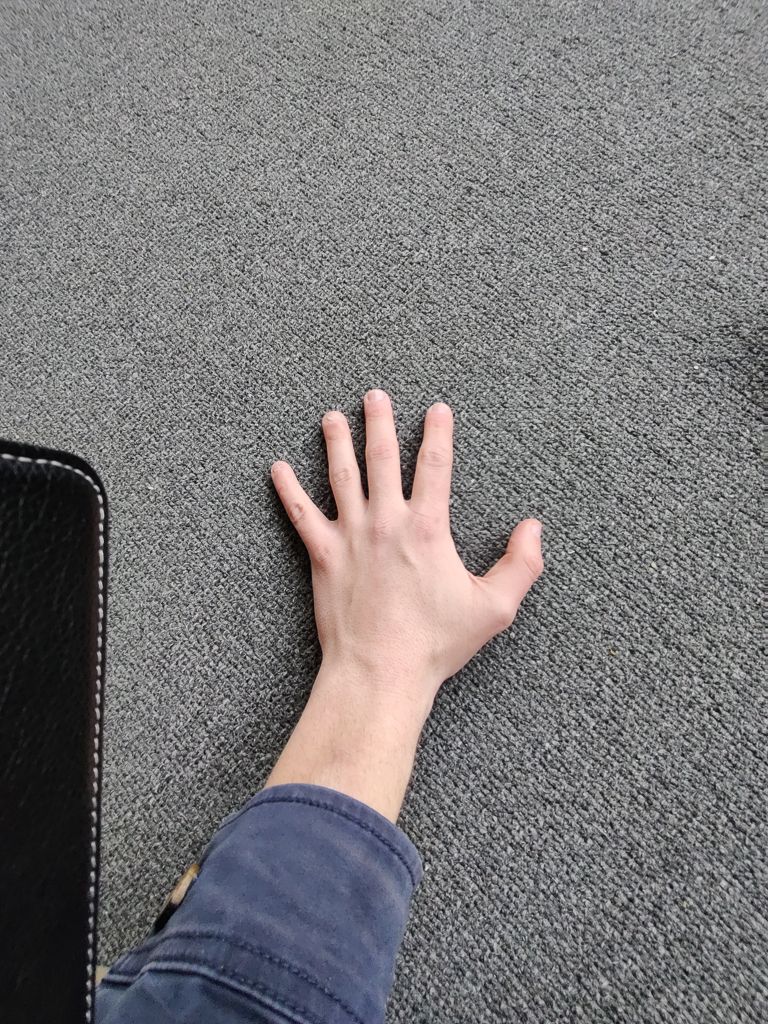Humanoid: (82, 376, 558, 1024)
